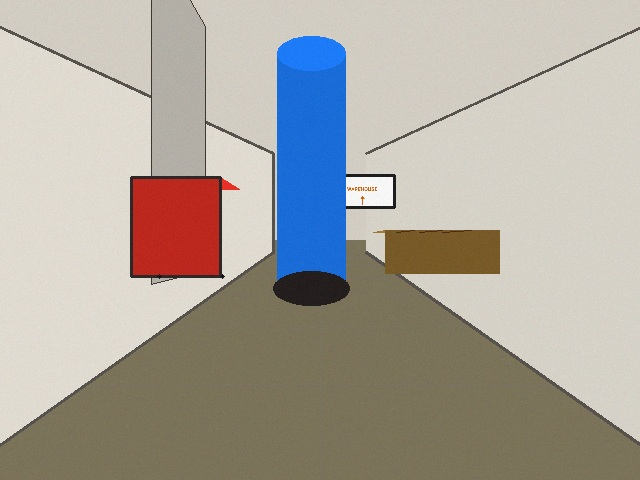cart: (131, 177, 239, 276)
directional_sign: (330, 175, 394, 207)
pallet: (373, 230, 499, 273)
person: (277, 53, 345, 288)
